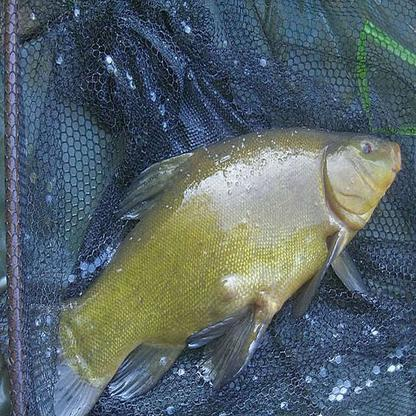fish: (16, 128, 402, 415)
